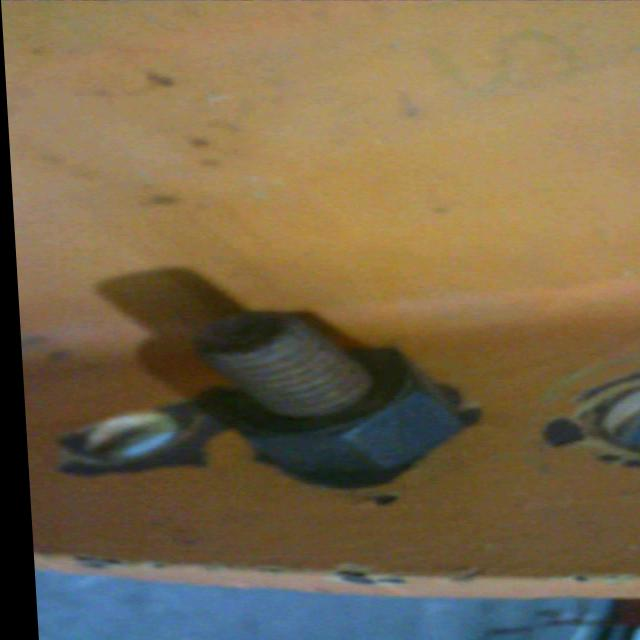Missing bolt: (80, 413, 176, 464), (591, 388, 640, 456)
Rusty bolt: (206, 312, 469, 486)
